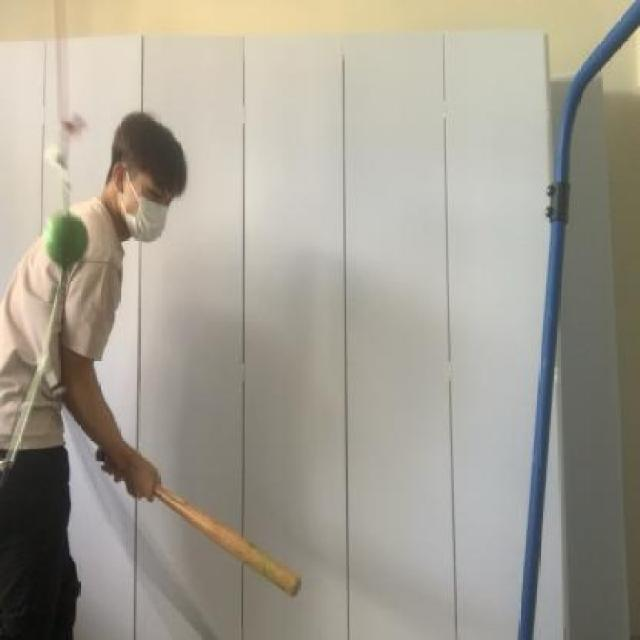baseball: (38, 207, 96, 271)
